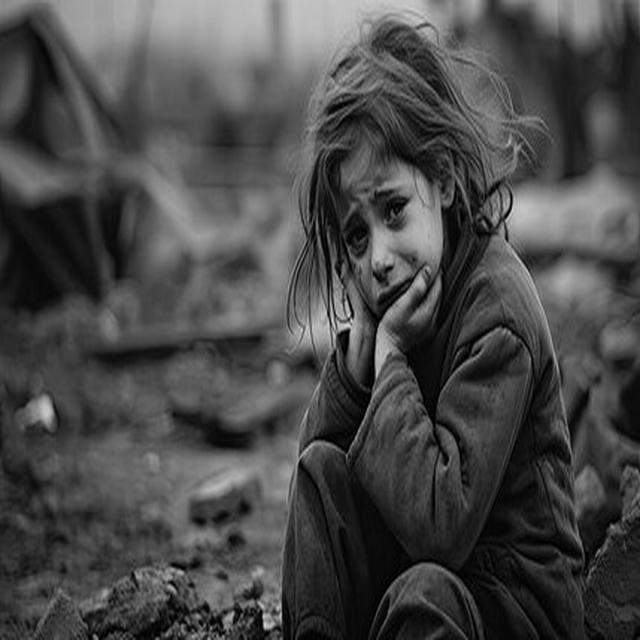Sadness: (330, 138, 444, 339)
